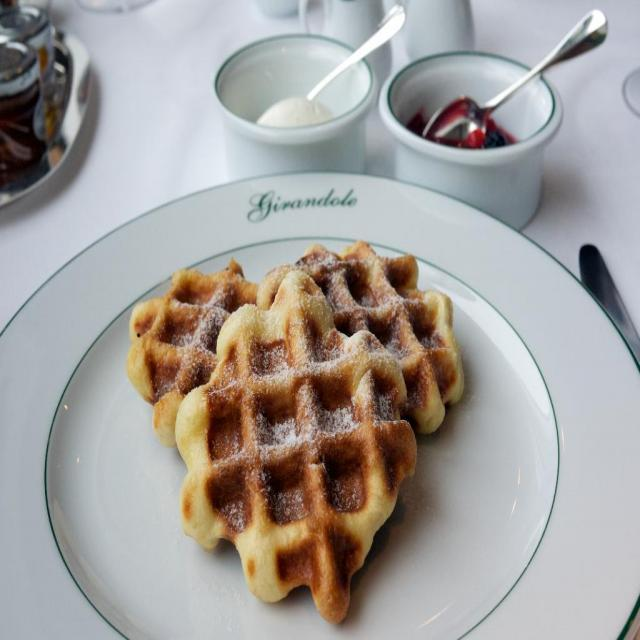Waffle: (175, 270, 417, 622), (257, 233, 467, 439), (123, 262, 277, 449)
